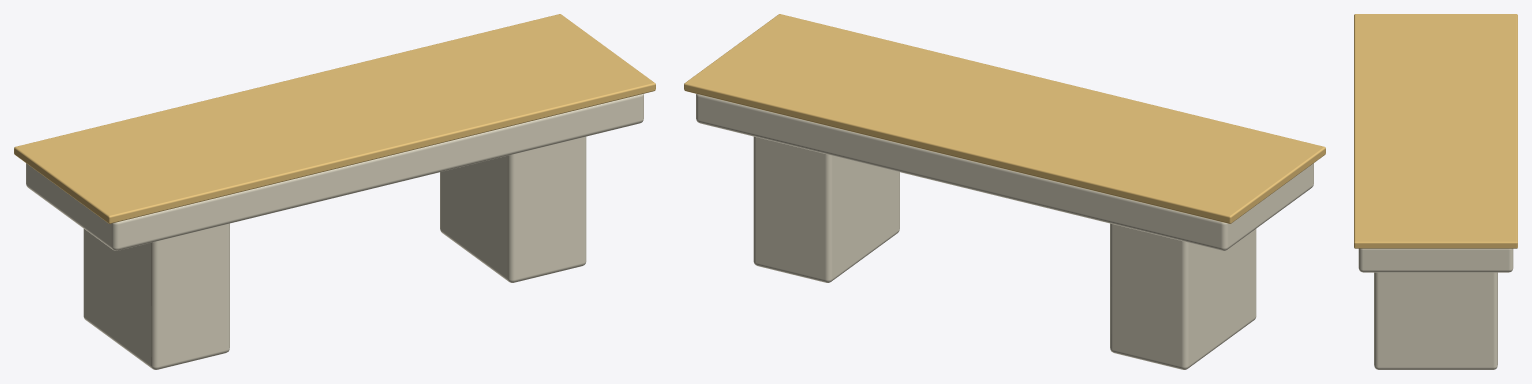
Rendered from royal-court-and-throne-palace-stone-garden-bench-f24b167c__29418.glb.
3 views of the same model, side by side, from view 1: azimuth 30°, elevation 25°; view 2: azimuth 150°, elevation 25°; view 3: azimuth 270°, elevation 25° (orthographic). The views are drawn at different scales.
Parts seen in each view (by area): view 1: stone-garden-bench; view 2: stone-garden-bench; view 3: stone-garden-bench.
Boxes of the visible parts, x1,y1,x2,y2 form: stone-garden-bench: (14,14,655,369); stone-garden-bench: (684,14,1325,369); stone-garden-bench: (1354,14,1517,369).
Bounding box in the file's own units: 1.75 × 0.5449 × 0.5301.
